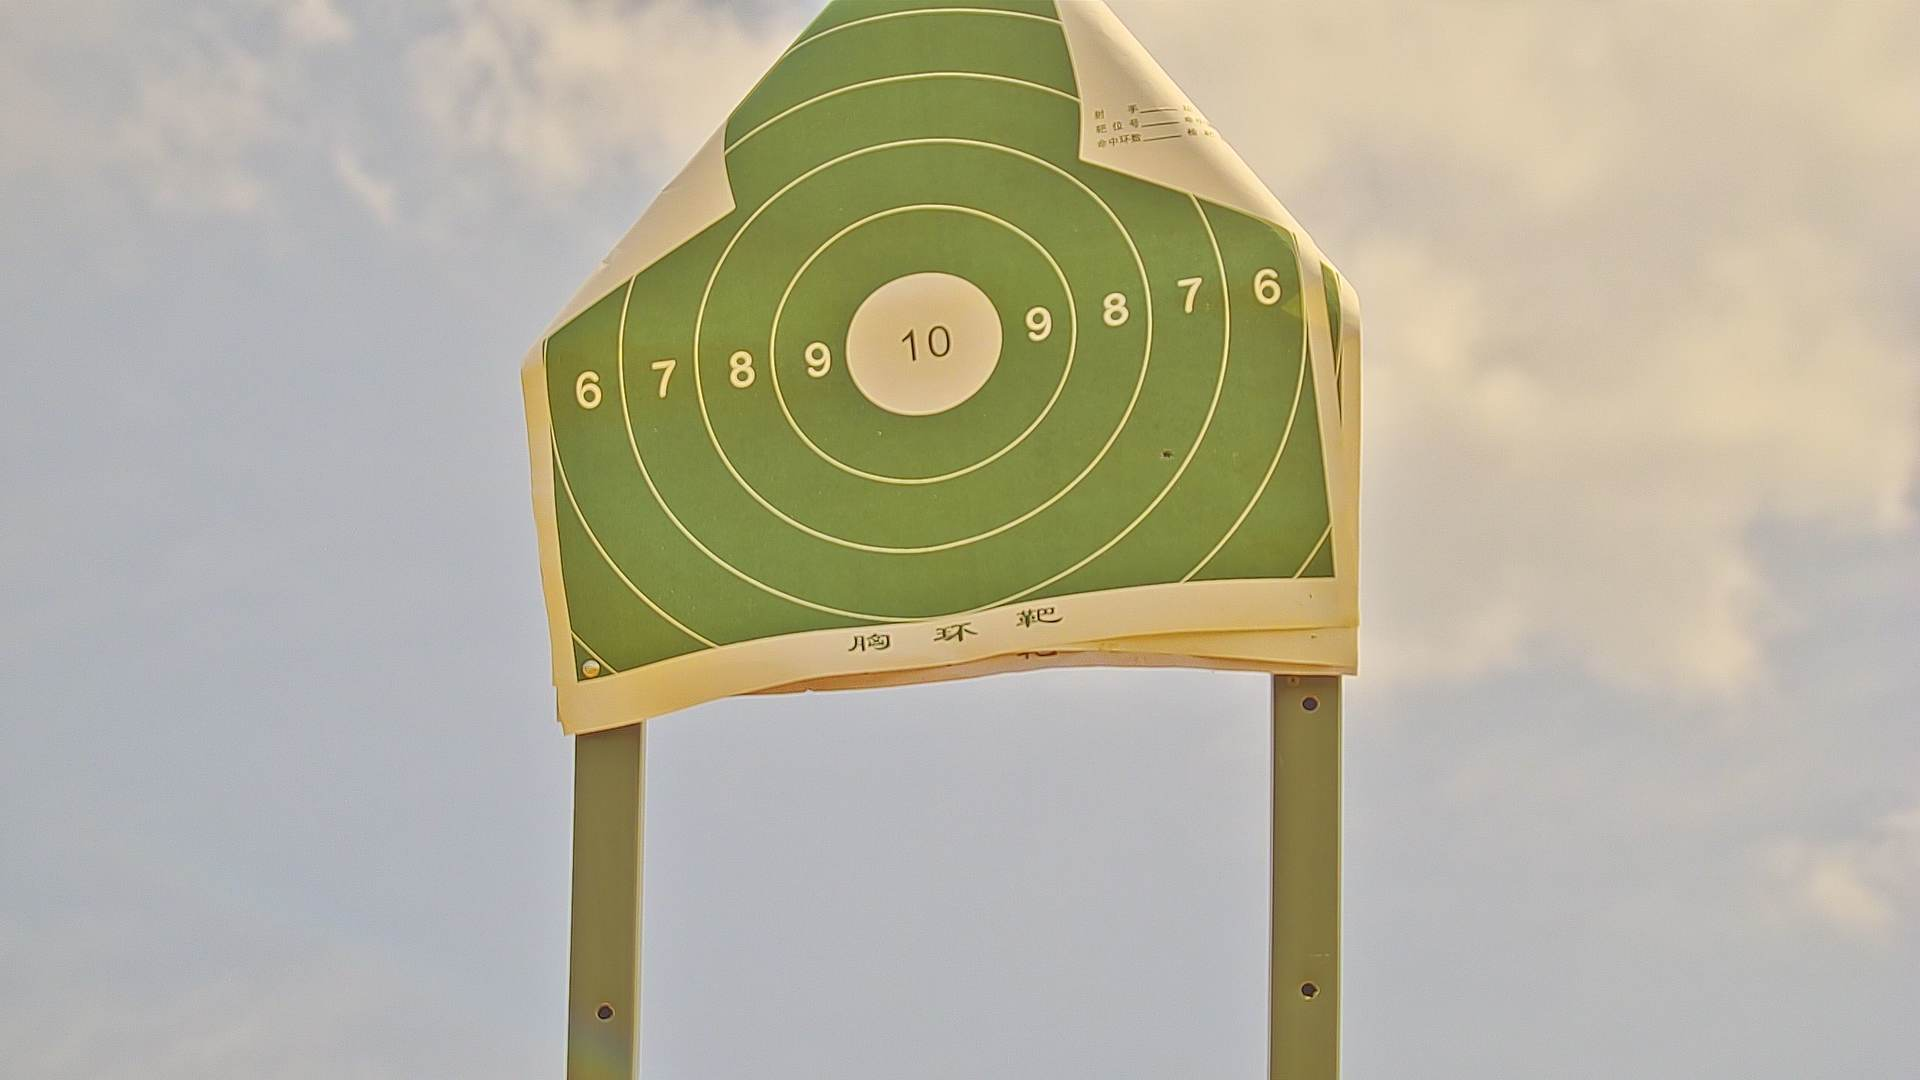hole: (1156, 442, 1182, 463)
kernel: (920, 342, 930, 349)
target: (541, 3, 1342, 686)
ten: (843, 272, 1010, 419)
